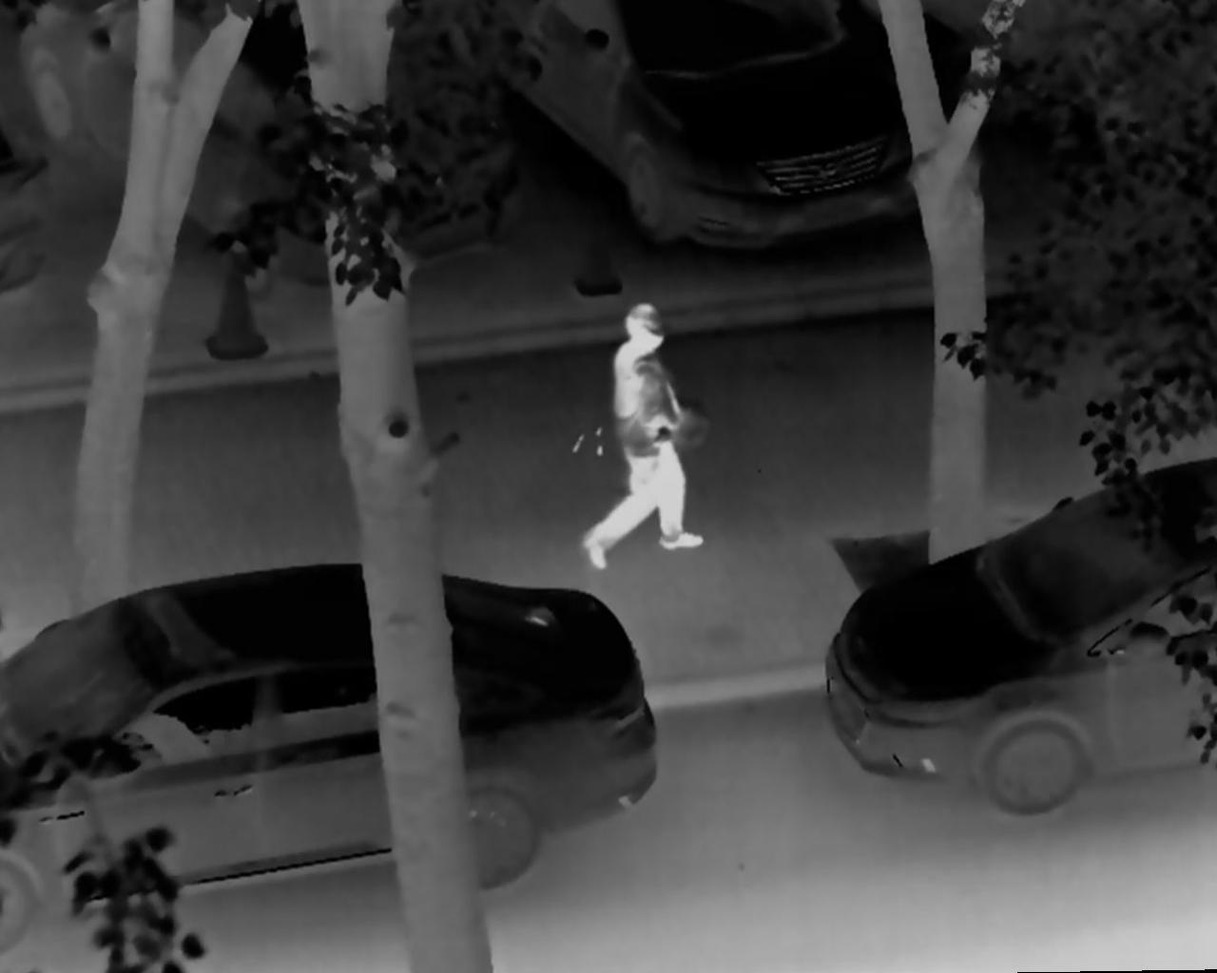person: (565, 298, 706, 572)
